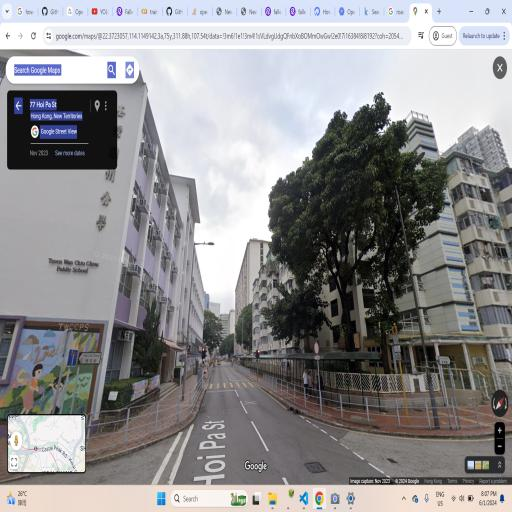Roads: (85, 380, 482, 480)
Trees: (256, 98, 451, 371)
